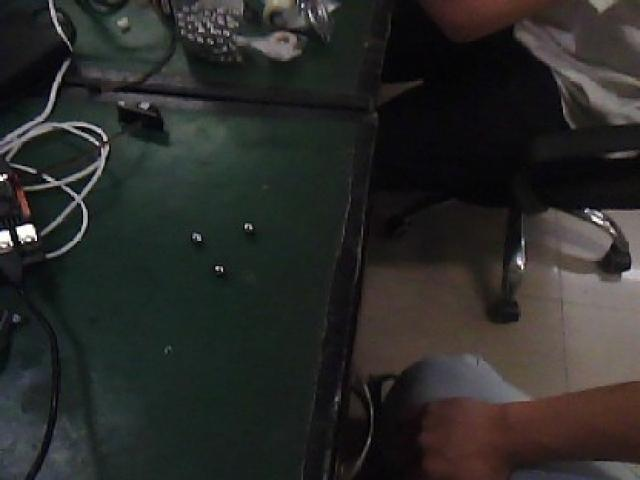steel-ball: (237, 209, 263, 242), (180, 226, 206, 246), (208, 250, 225, 278)
